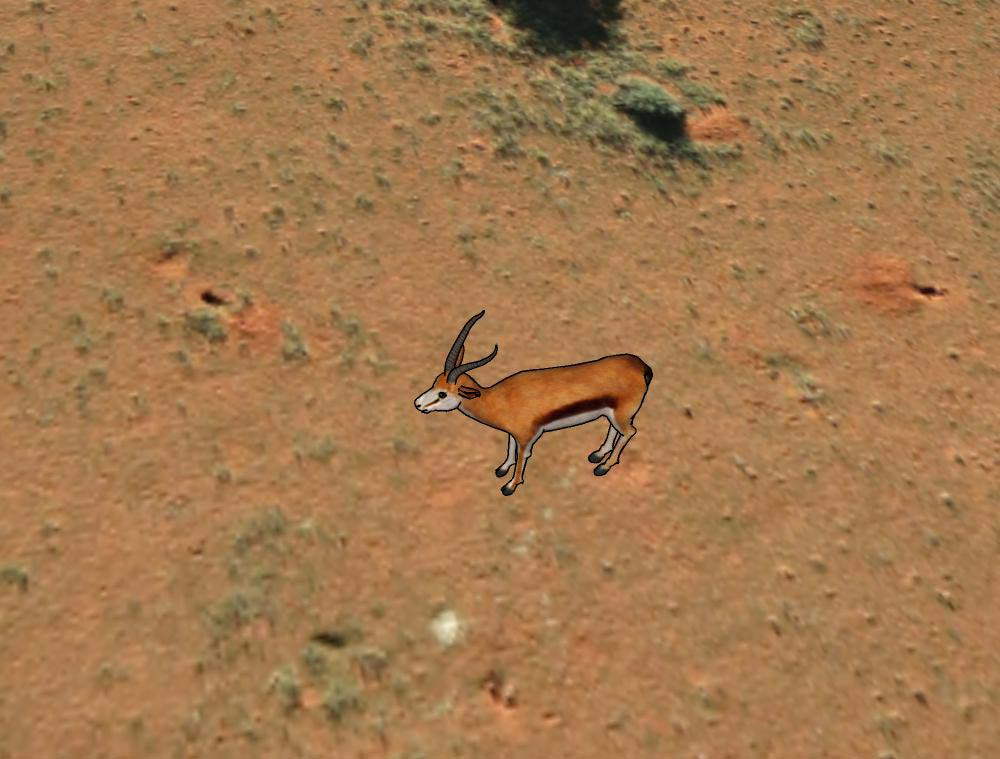springbok: (412, 308, 655, 500)
